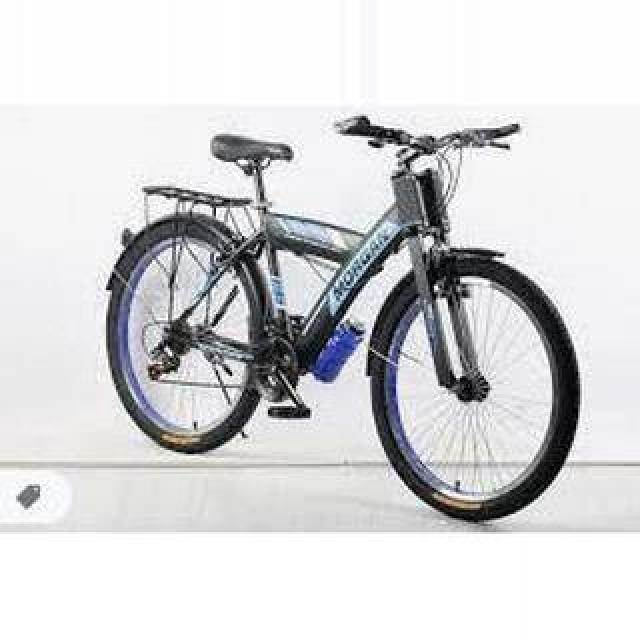Person: (105, 115, 581, 523)
